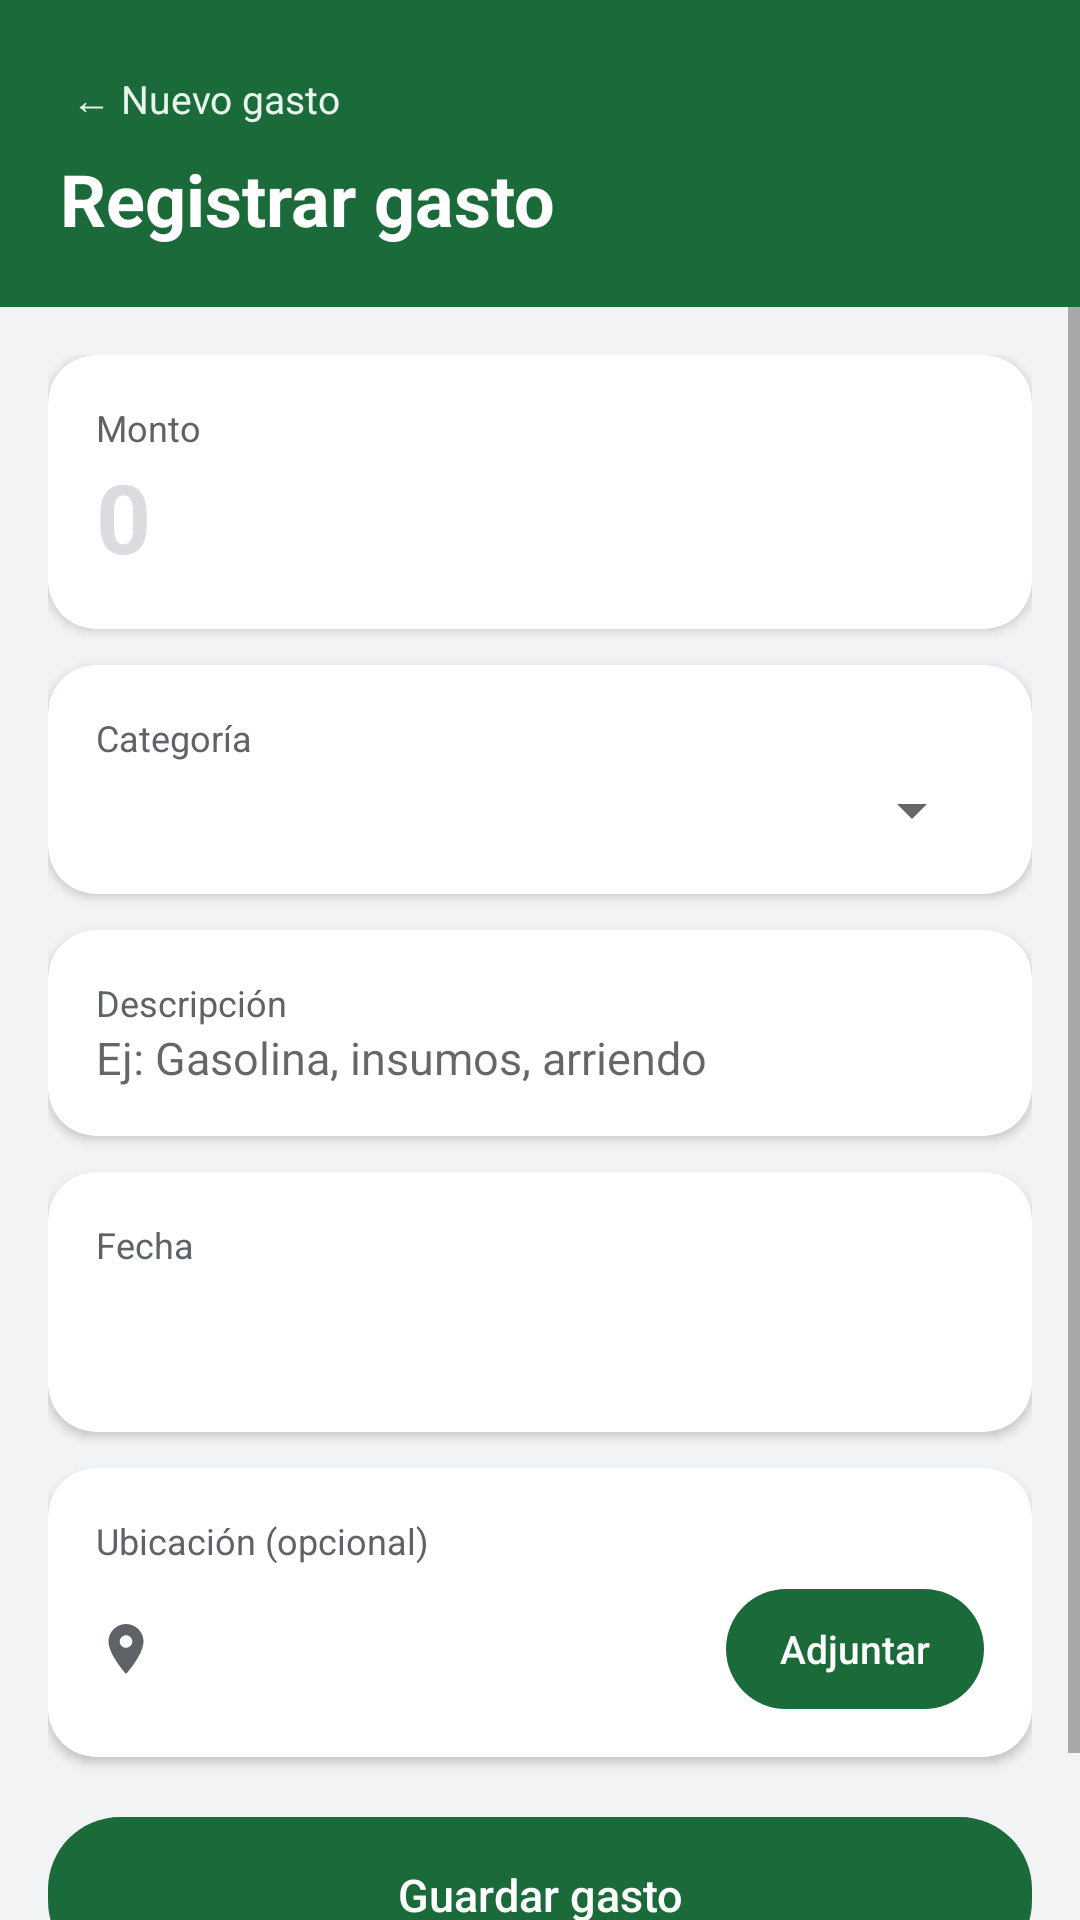

Where icons sit on this 1080×1920 app screen, as {"left": x1, "top": y1, "right": x2, "bottom": y2}:
ubicacion: {"left": 108, "top": 1624, "right": 144, "bottom": 1674}
